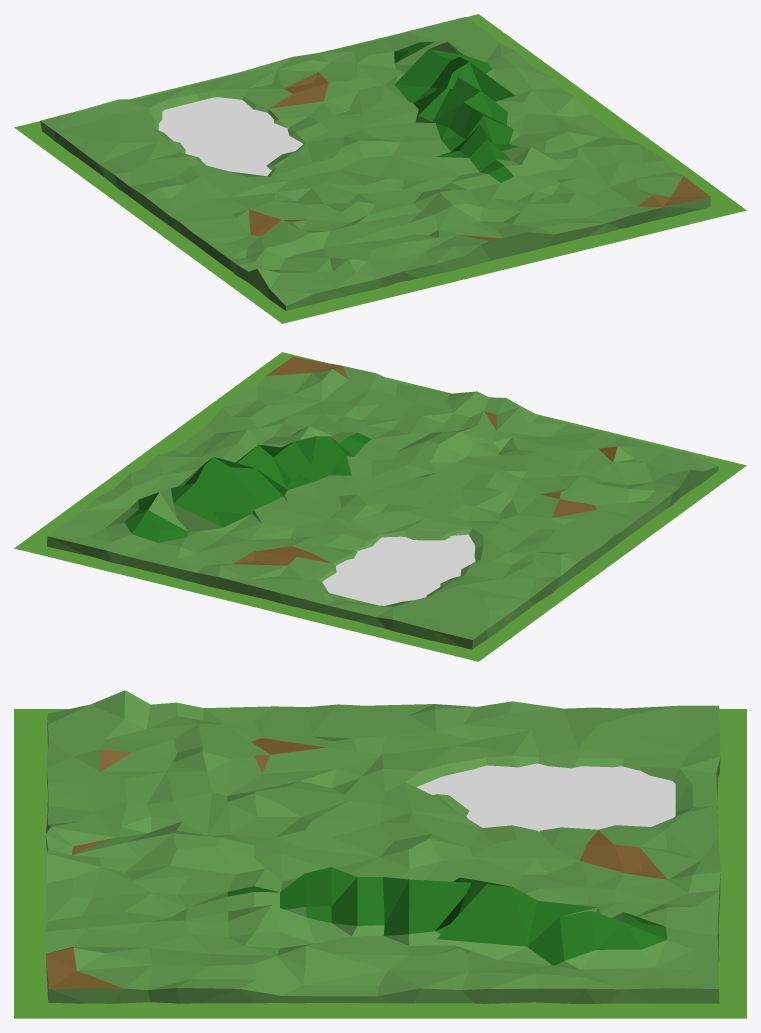
Rendered from Park_Terrain.fbx.
3 renders of one model, top to bottom at view 1: azimuth 30°, elevation 25°; view 2: azimuth 150°, elevation 25°; view 3: azimuth 270°, elevation 25°, orthographic. The views are drawn at different scales.
Visible parts, largest first — view 1: Plane, Plane.001, Plane.002; view 2: Plane, Plane.001, Plane.002; view 3: Plane, Plane.001, Plane.002.
Boxes of the visible parts, x1,y1,x2,y2 form: Plane: (40,17,710,310); Plane.001: (14,14,746,323); Plane.002: (158,97,345,176); Plane: (47,357,718,649); Plane.001: (14,352,746,661); Plane.002: (294,534,475,605); Plane: (44,690,720,1003); Plane.001: (14,709,746,1018); Plane.002: (416,763,675,871).
Size of the model in its own units: 4343 by 575 by 4343.
